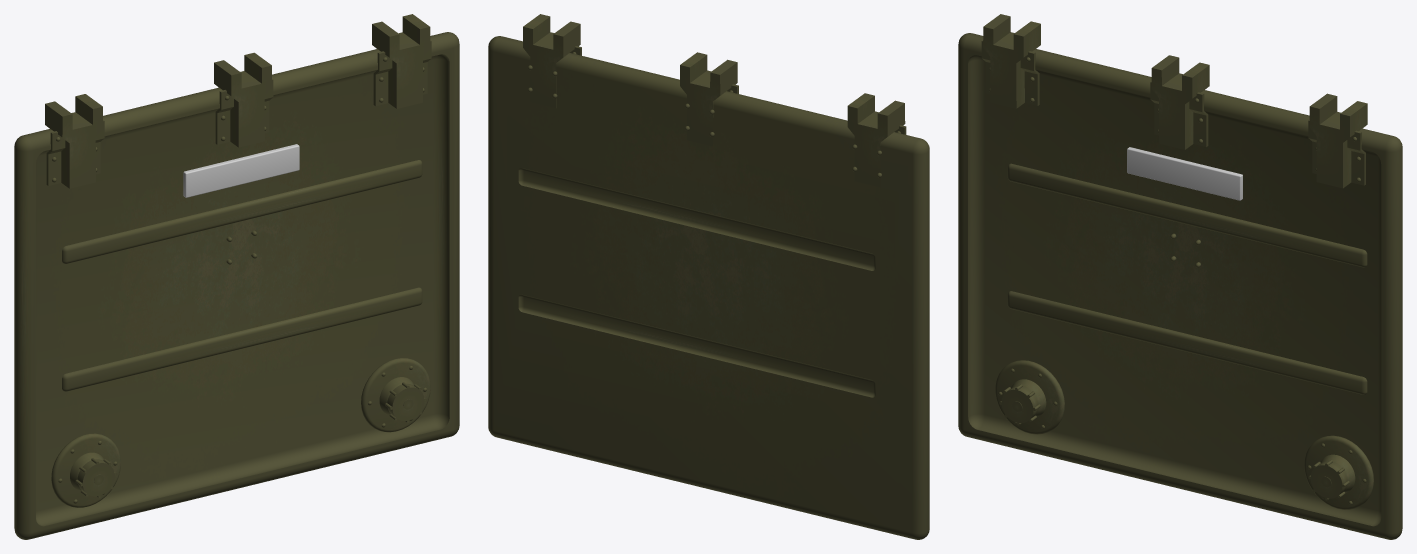
The model's file is Cap_of_PPO.gltf.
The picture shows the model from 3 angles, left to right: view 1: azimuth 30°, elevation 25°; view 2: azimuth 150°, elevation 25°; view 3: azimuth 330°, elevation 25°; orthographic projection.
Parts seen in each view (by area): view 1: Cap_of_PPO; view 2: Cap_of_PPO; view 3: Cap_of_PPO.
Part boxes in pixels (x1,y1,x2,y2): Cap_of_PPO: (14,14,459,539); Cap_of_PPO: (488,14,929,539); Cap_of_PPO: (958,14,1402,539).
Size of the model in its own units: 0.4371 by 0.4014 by 0.0348.
Materials: 2 (1 with a texture image).
